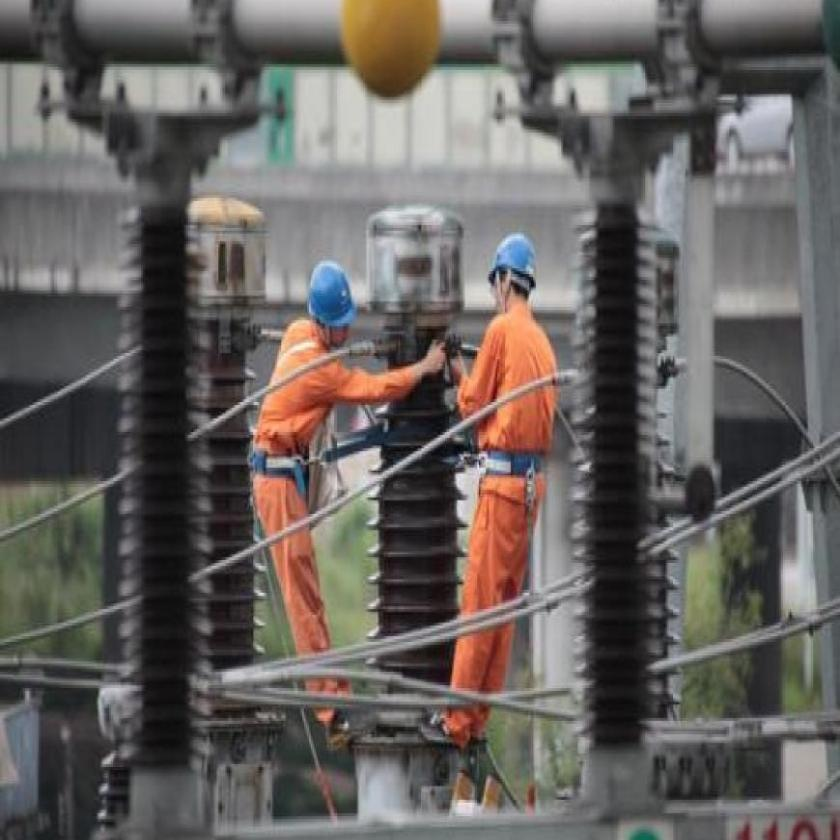Con_casco: (481, 217, 547, 322)
